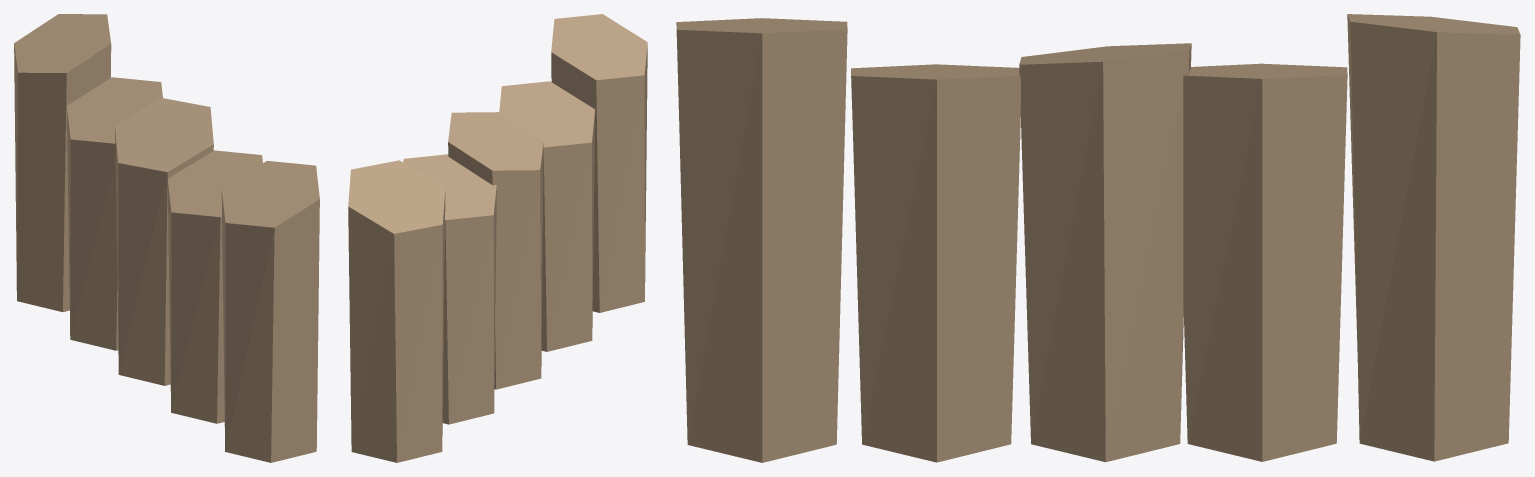
File: fence_2.FBX
3 views of the same model, side by side, from view 1: azimuth 30°, elevation 25°; view 2: azimuth 150°, elevation 25°; view 3: azimuth 270°, elevation 25° (orthographic). The views are drawn at different scales.
Parts seen in each view (by area): view 1: fence_1; view 2: fence_1; view 3: fence_1.
Boxes of the visible parts, left/top/right/bottom form: fence_1: left=14, top=14, right=319, bottom=462; fence_1: left=348, top=14, right=647, bottom=462; fence_1: left=676, top=14, right=1520, bottom=462.
Bounding box in the file's own units: 47.76 × 129 × 230.
